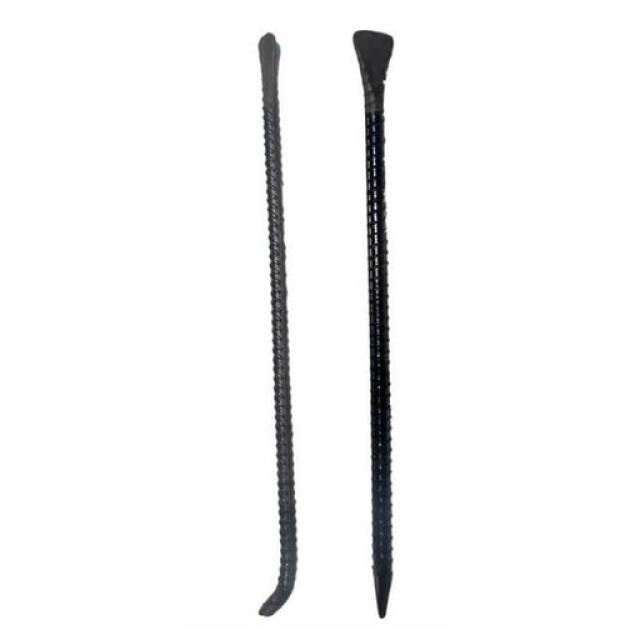Linggis: (256, 36, 303, 618)
